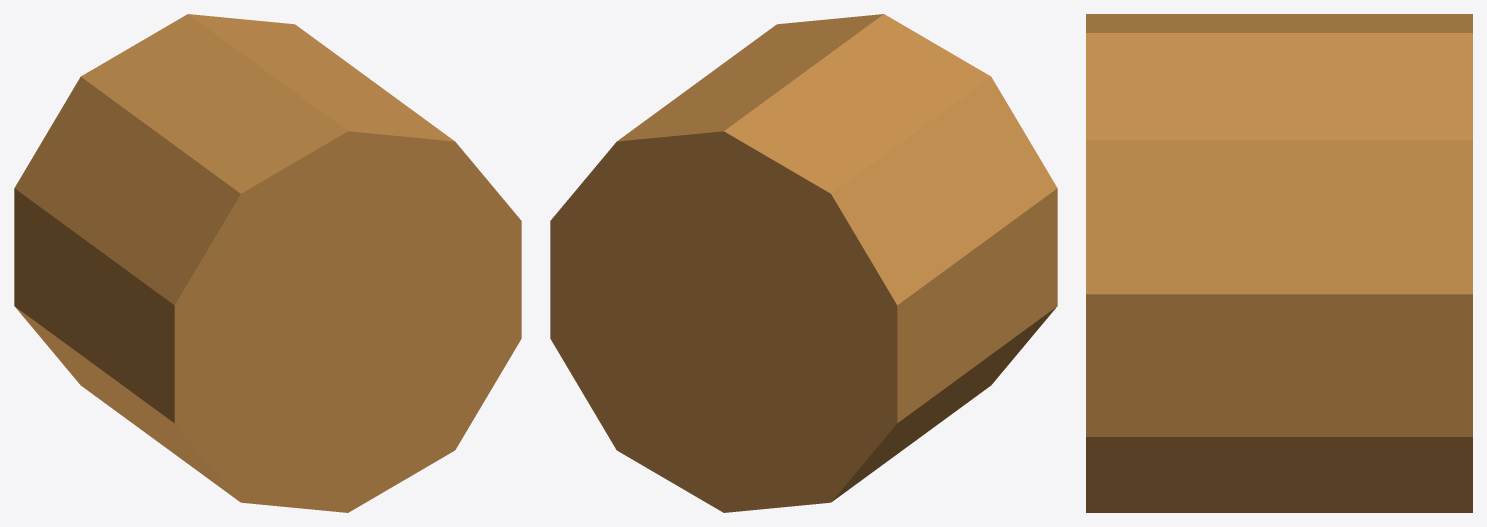
The model's file is Frontier_MiningConveyor_Motor.glb.
3 views of the same model, side by side, from view 1: azimuth 30°, elevation 25°; view 2: azimuth 150°, elevation 25°; view 3: azimuth 270°, elevation 25° (orthographic). The views are drawn at different scales.
Parts seen in each view (by area): view 1: Frontier_MiningConveyor_Motor; view 2: Frontier_MiningConveyor_Motor; view 3: Frontier_MiningConveyor_Motor.
Boxes of the visible parts, left/top/right/bottom form: Frontier_MiningConveyor_Motor: left=14, top=14, right=521, bottom=512; Frontier_MiningConveyor_Motor: left=550, top=14, right=1057, bottom=512; Frontier_MiningConveyor_Motor: left=1086, top=14, right=1472, bottom=512.
Size of the model in its own units: 0.4375 by 0.46 by 0.35.
